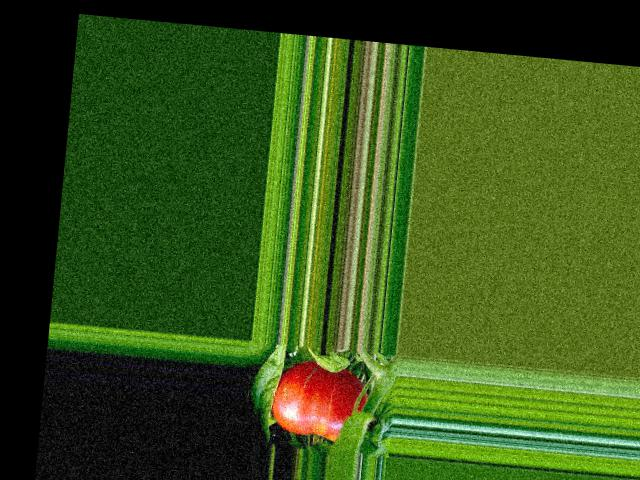tomato: (268, 357, 371, 444)
